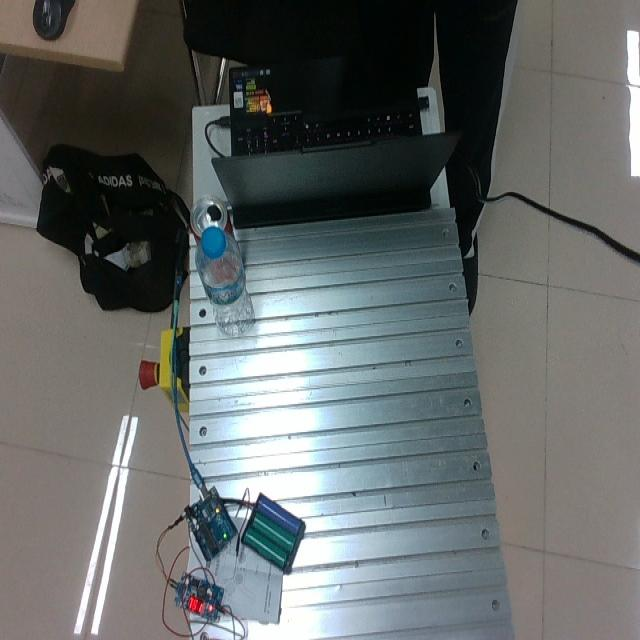coca: (189, 195, 232, 242)
lavie: (196, 220, 255, 336)
